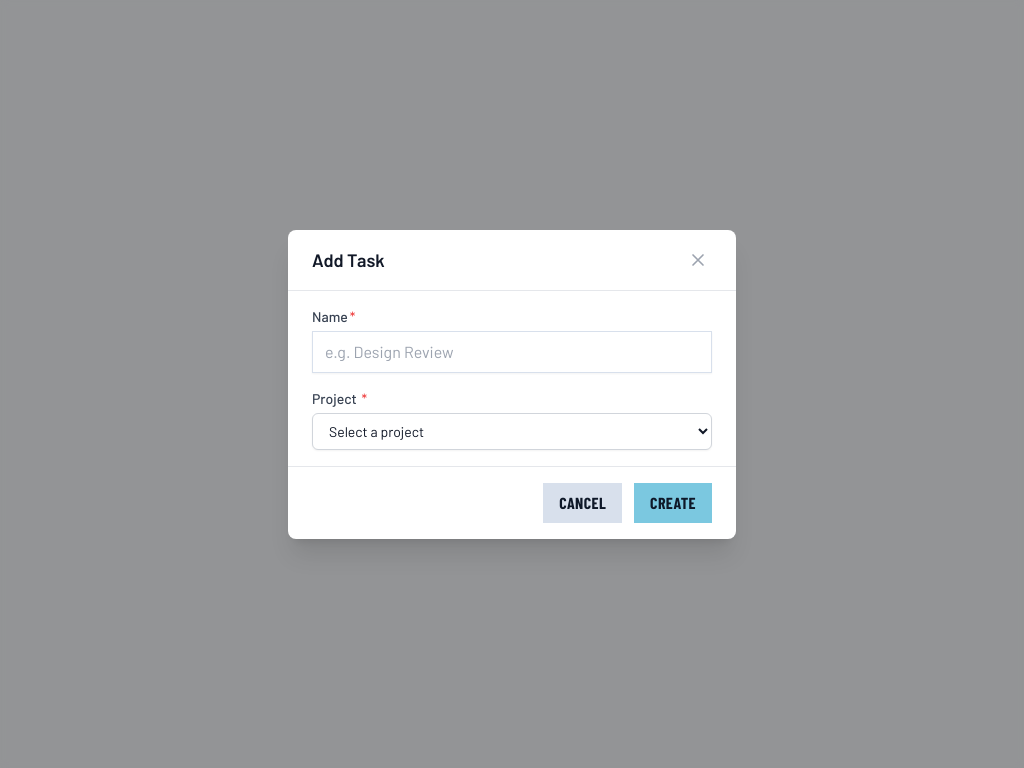
Test: TaskForm › shows validation error when project is not selected
Type "New Task" into the field with placeholder "e.g. Design Review" at x=512, y=352, box [312,330,712,372]
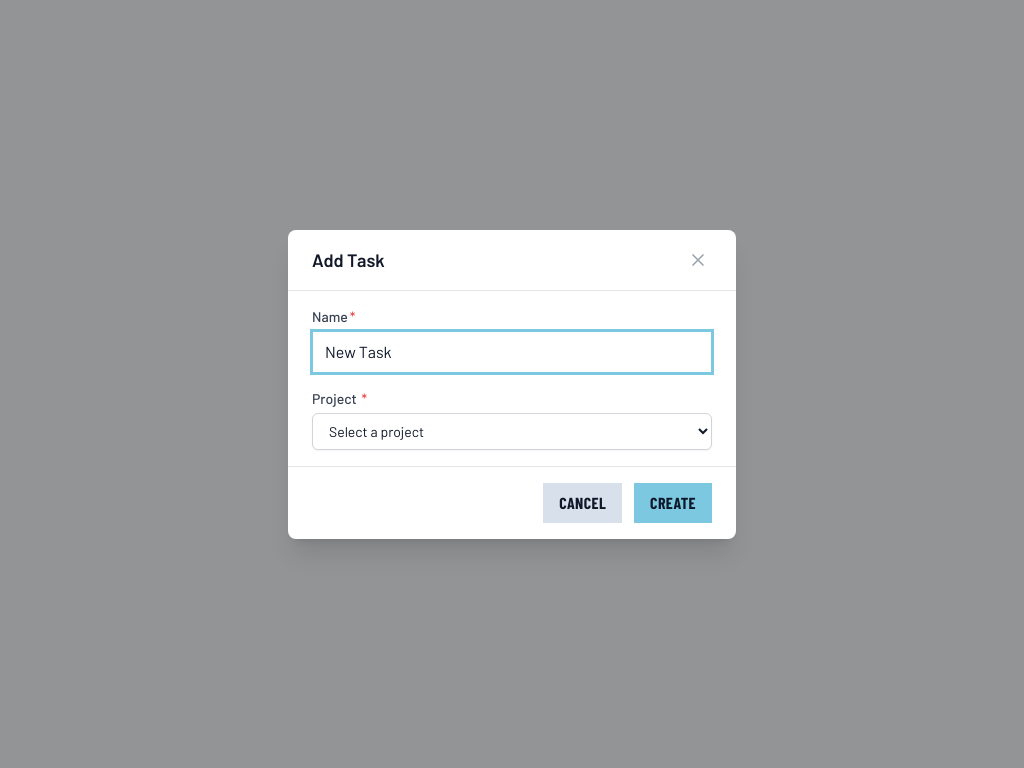
Click the button "Create" at x=673, y=502, box [634,482,712,522]
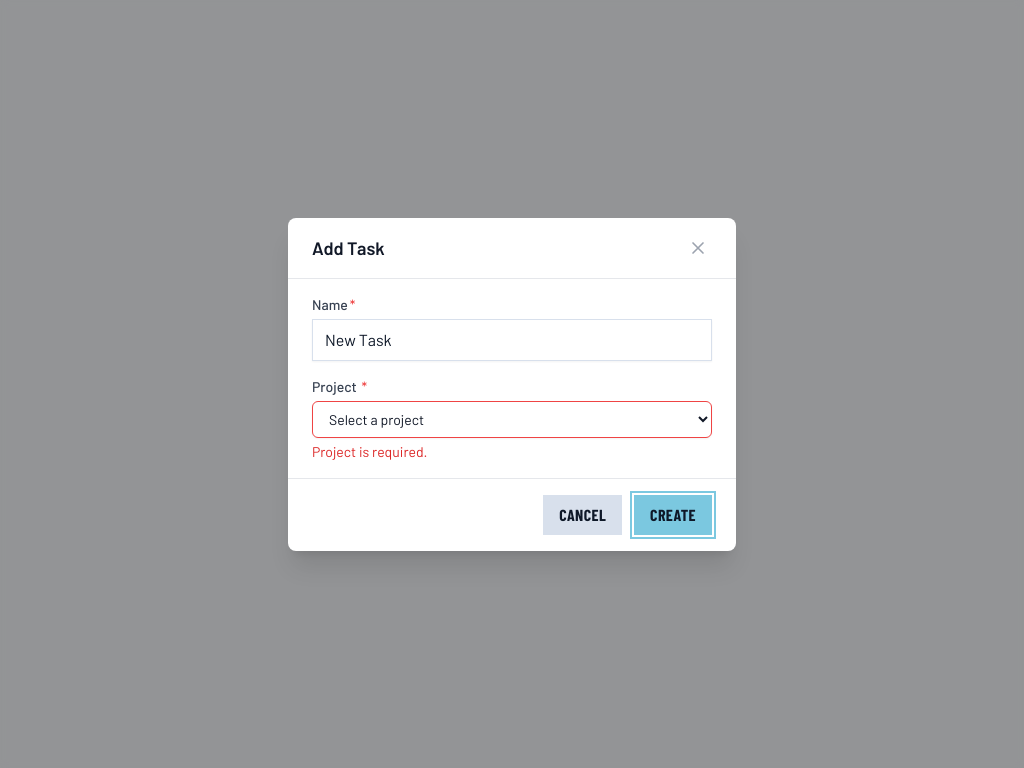
Result: the message reads "Project is required." at [312,442,427,460]
